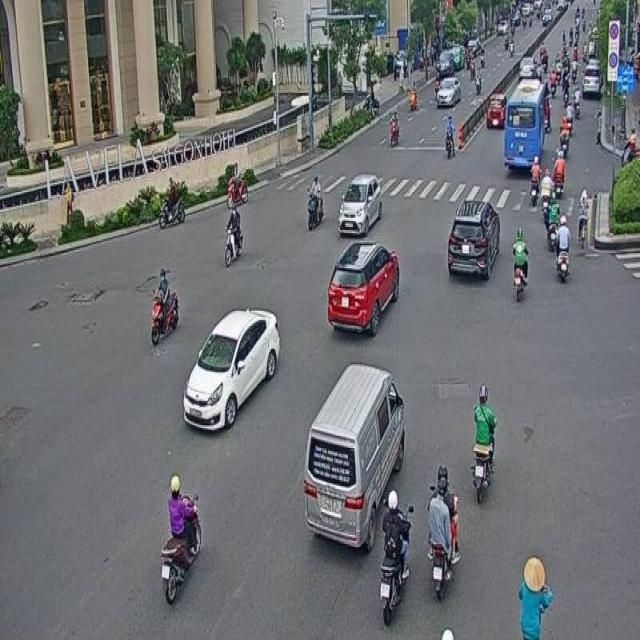car: (182, 308, 283, 434), (326, 239, 397, 334), (444, 194, 502, 280), (338, 170, 379, 238)
motorcycle: (160, 474, 202, 605), (375, 489, 414, 625), (426, 462, 460, 596), (468, 377, 498, 508), (150, 265, 177, 349), (222, 204, 242, 268), (511, 226, 526, 302), (306, 172, 324, 230), (556, 212, 570, 282)
truck: (300, 362, 406, 560)
